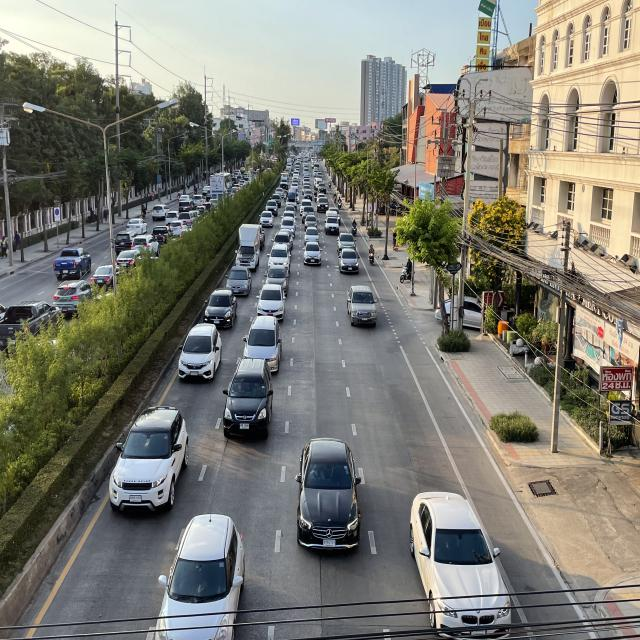truck: (232, 222, 262, 272), (324, 210, 340, 236)
